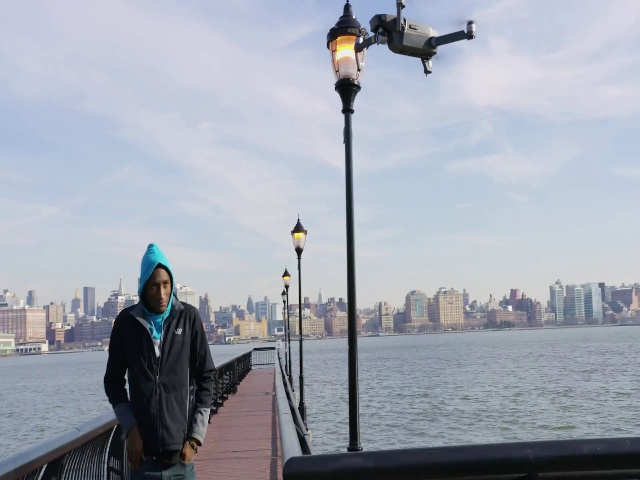drone: (343, 1, 493, 78)
